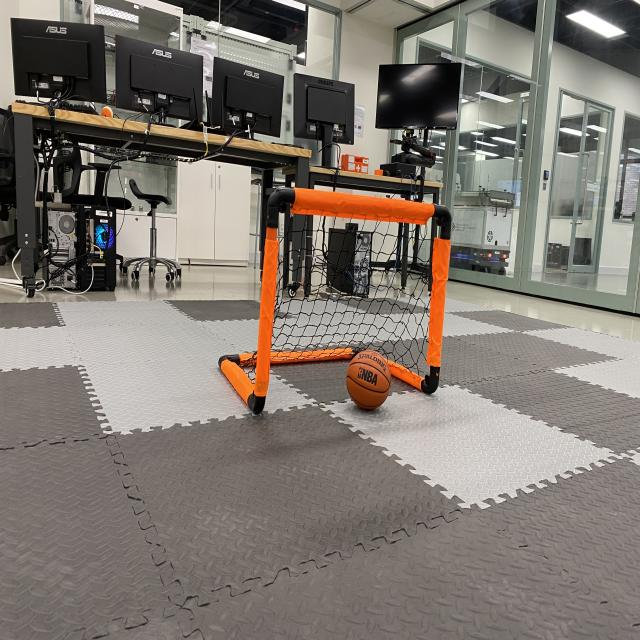ball: (342, 344, 396, 417)
gate: (213, 180, 458, 424)
